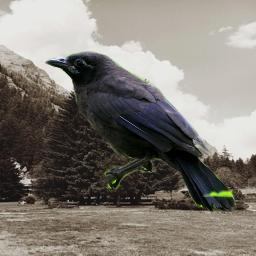Crow: (45, 51, 237, 213)
